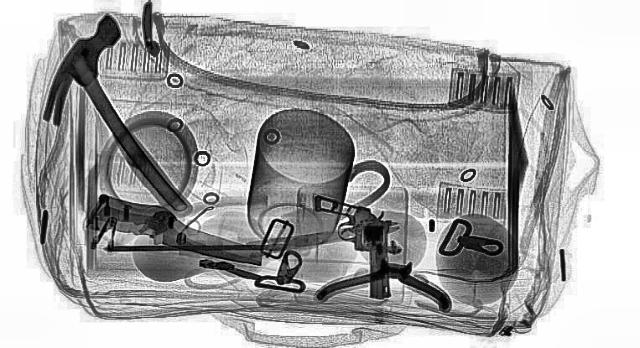Gun: (314, 194, 396, 300)
